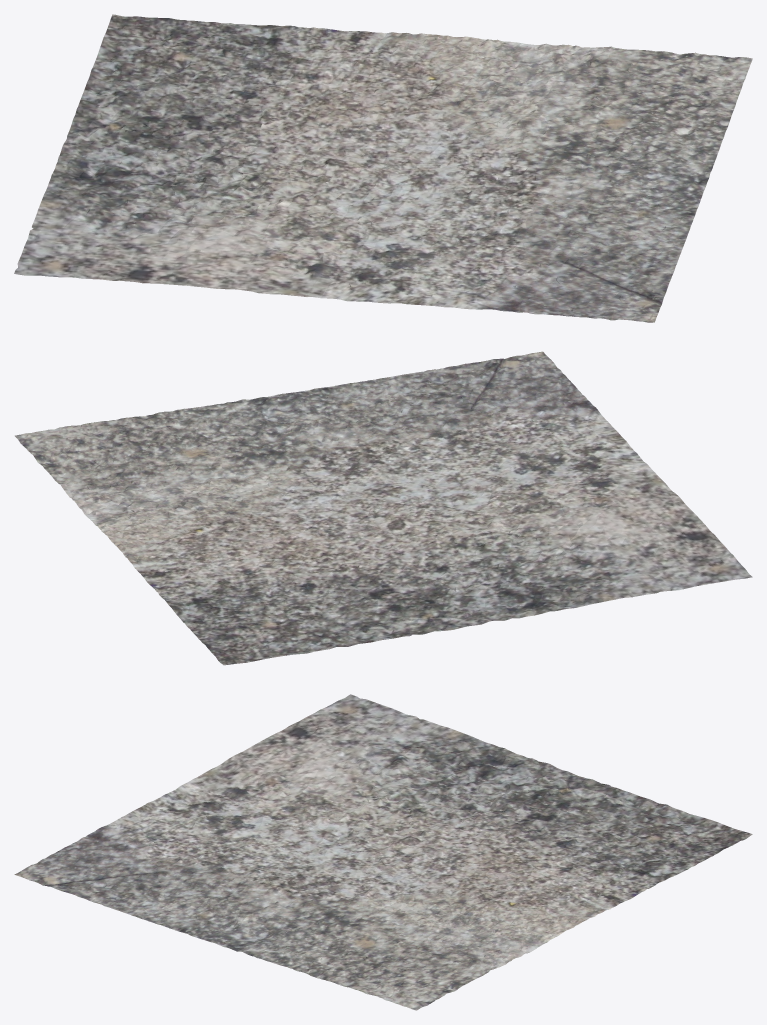
File: tile_0_2.obj
3 renders of one model, top to bottom at view 1: azimuth 30°, elevation 25°; view 2: azimuth 150°, elevation 25°; view 3: azimuth 270°, elevation 25°, orthographic. The views are drawn at different scales.
Parts seen in each view (by area): view 1: texture_0; view 2: texture_0; view 3: texture_0.
Part boxes in pixels (box(x1,y1,x2,y2)): texture_0: box(14, 14, 752, 322); texture_0: box(14, 351, 752, 665); texture_0: box(14, 694, 752, 1010).
Size of the model in its own units: 0.508 by 0.00545 by 0.5063.
Materials: 1 (1 with a texture image).
